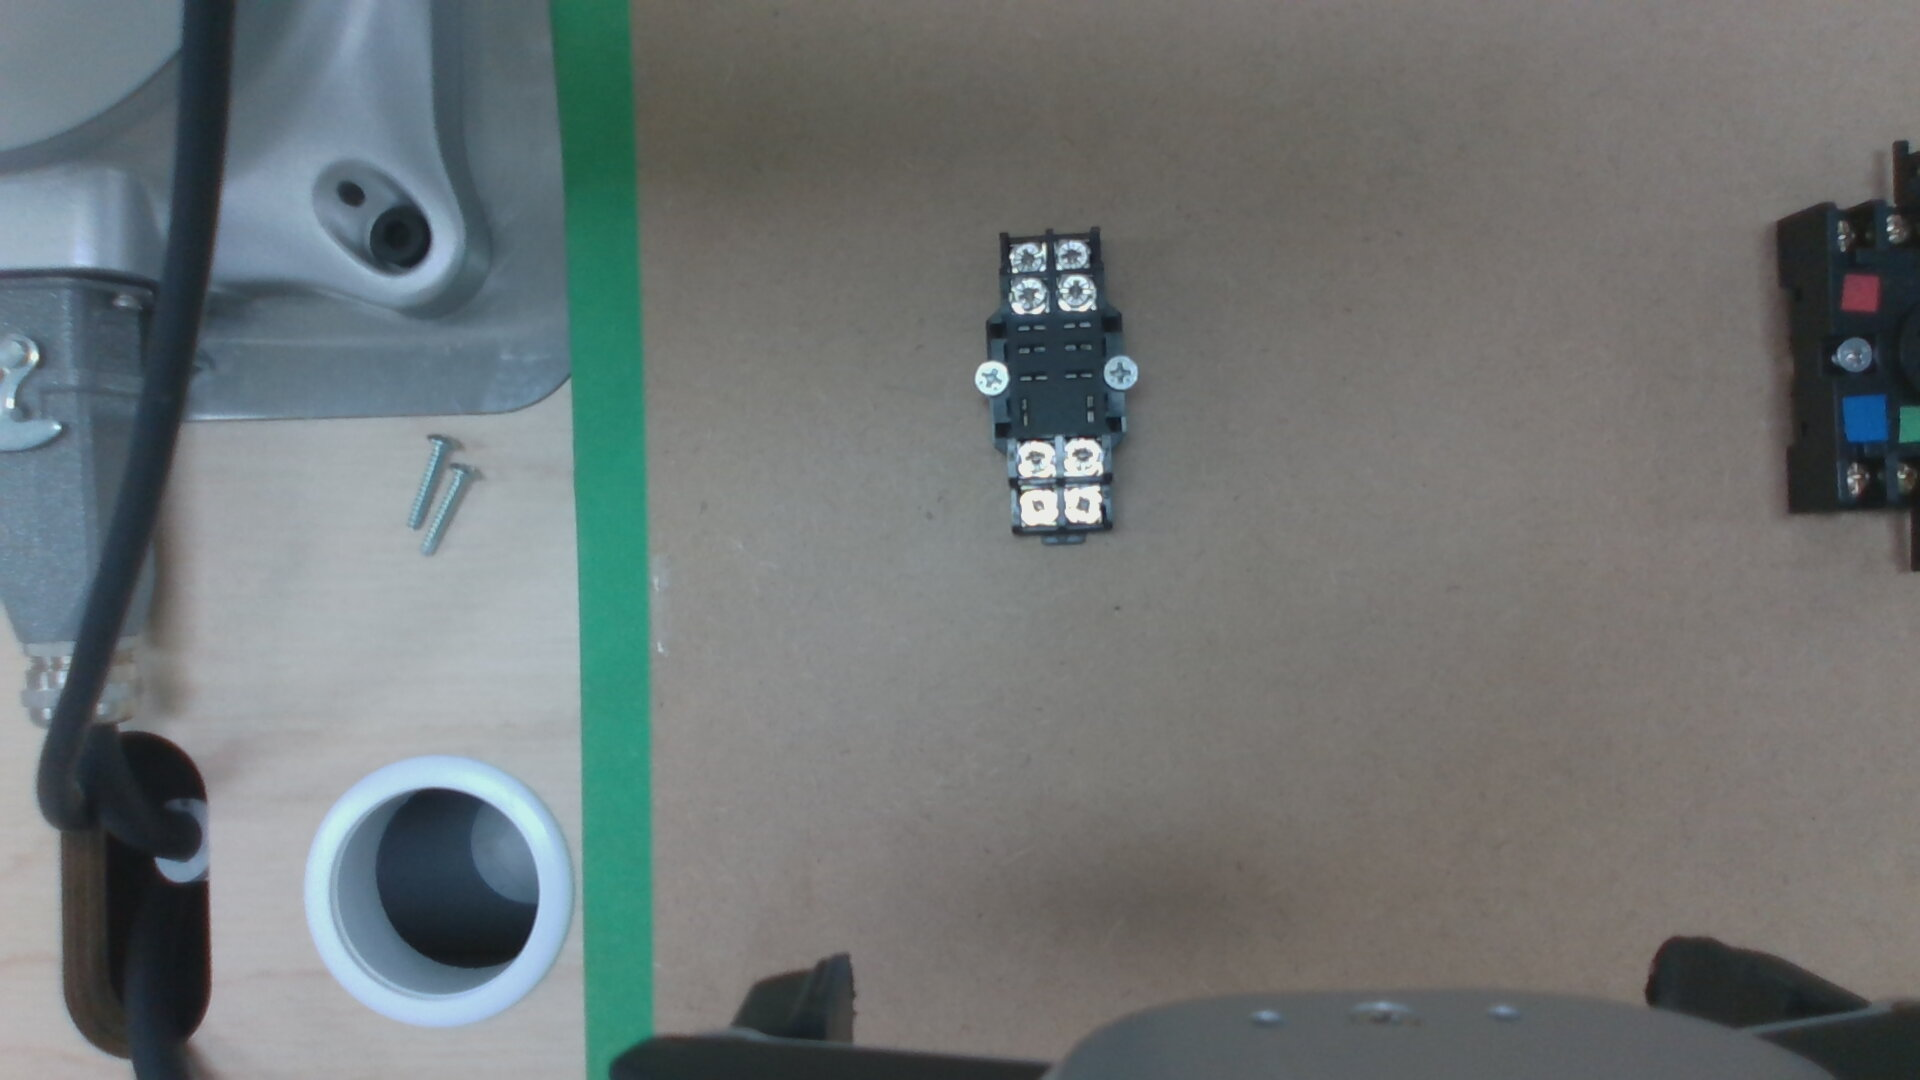relay 3: (1054, 239, 1089, 266)
relay 4: (1007, 247, 1044, 270)
relay 5: (1065, 491, 1098, 520)
relay 6: (1019, 491, 1054, 522)
relay 7: (1065, 440, 1097, 469)
relay 8: (1019, 444, 1051, 473)
